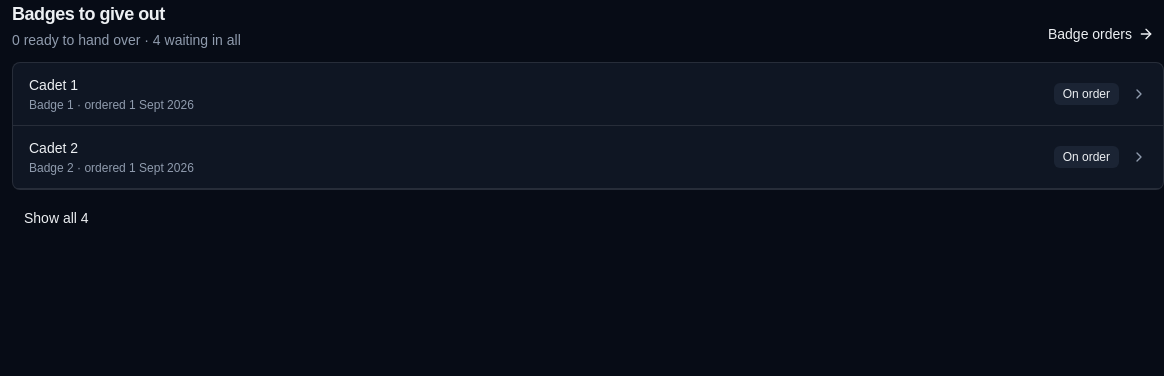
BadgesToGive › collapses a long list and opens it on request
Click the button "Show all 4".
click(56, 218)  # box top-left (12, 202), bottom-right (101, 234)
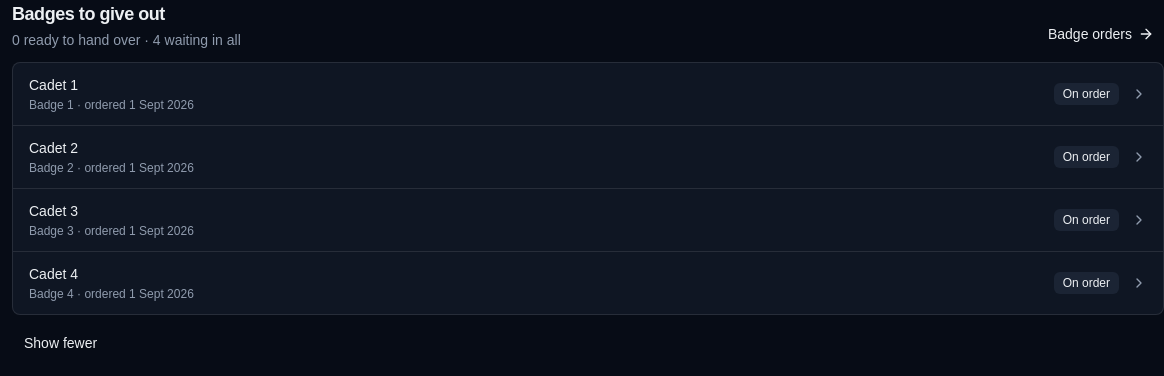
Now the button "Show fewer" is shown, box top-left (12, 327), bottom-right (109, 359)
